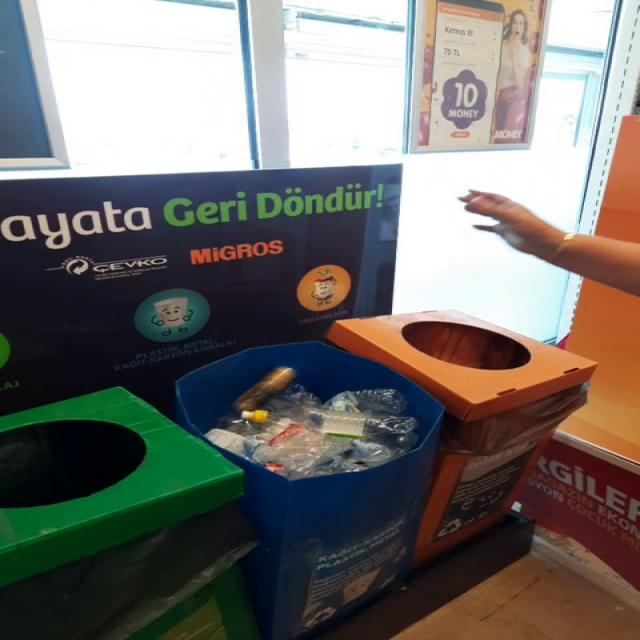metal: (233, 367, 297, 412)
